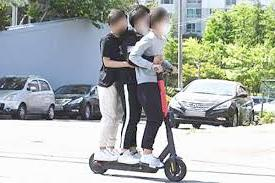multiple: (89, 4, 188, 182)
